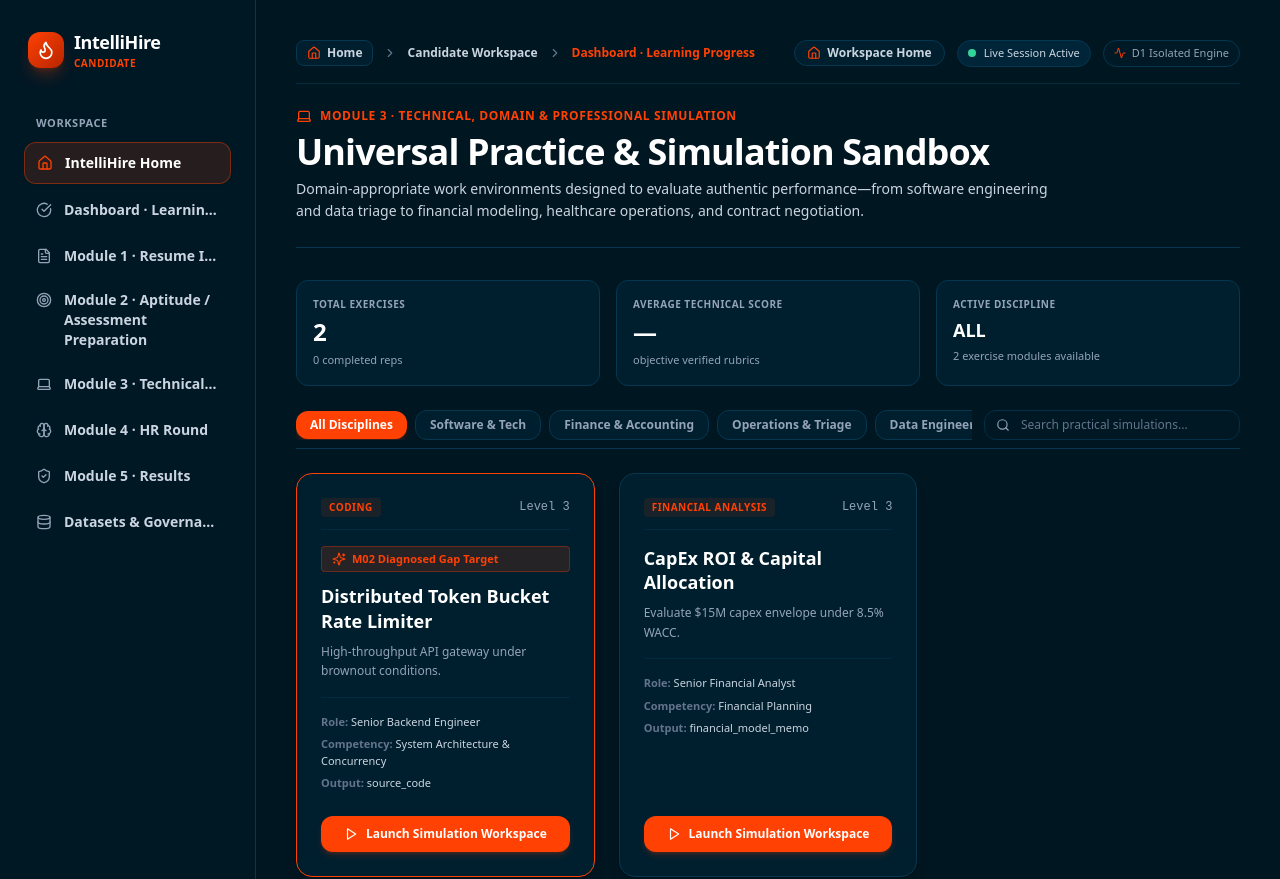
Test: M03 Simulation Workspace UI & Flow Tests › loads simulation catalog and filters by discipline
This screenshot has width=1280, height=879.
Expected: the heading "Universal Practice & Simulation Sandbox" is shown, [296,132,1064,172]
Expected: the heading "Distributed Token Bucket Rate Limiter" is shown, [321,584,570,634]
# Filter to Finance
Click the button "Finance & Accounting" at [629, 424], box [549,410,709,440]
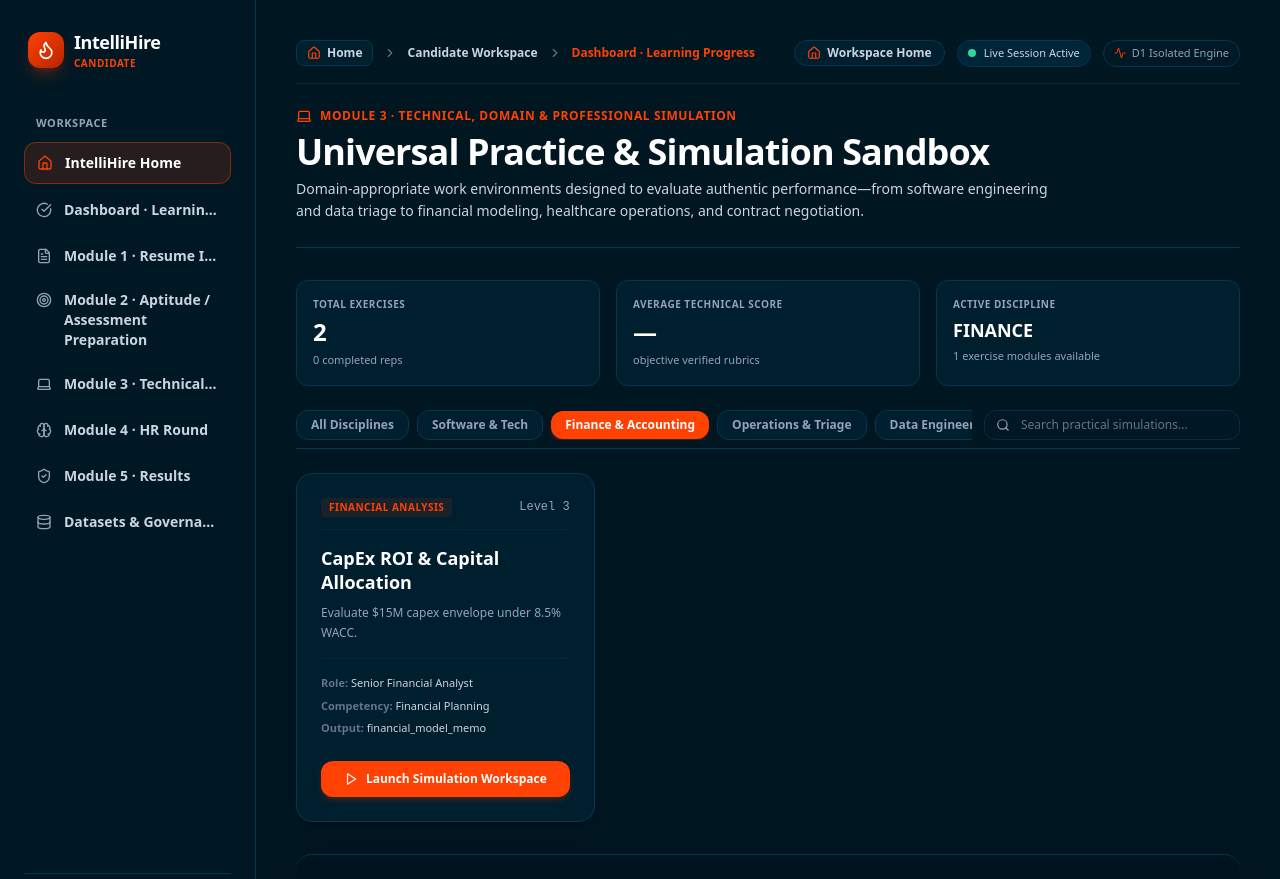
Expected: the heading "CapEx ROI & Capital Allocation" is shown, [321,546,499,594]
Expected: the heading "Distributed Token Bucket Rate Limiter" is gone
